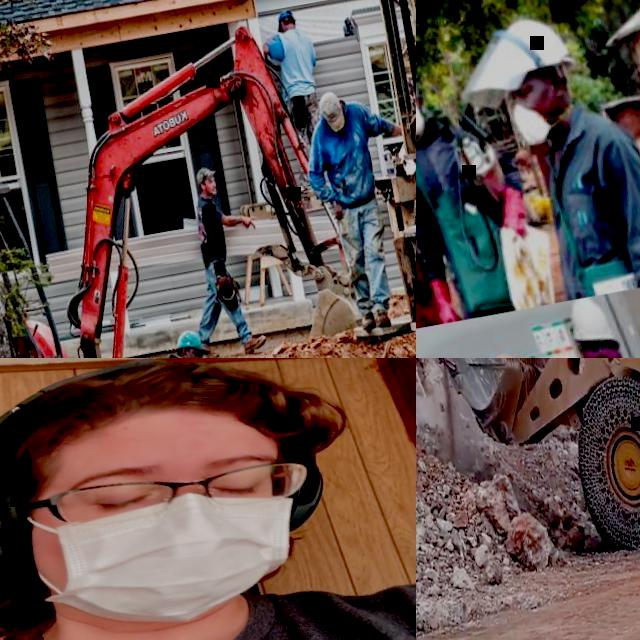helmet: (0, 358, 304, 475), (566, 288, 621, 352)
machinery: (0, 10, 379, 358), (417, 358, 640, 589)
mask: (24, 470, 317, 640), (509, 97, 556, 149), (416, 101, 428, 137)
no_helmet: (317, 90, 346, 131), (173, 324, 209, 350), (194, 165, 218, 182), (276, 6, 294, 22)
no_mask: (205, 183, 218, 194)
no_vest: (0, 555, 416, 640), (534, 92, 640, 296), (416, 117, 515, 326), (320, 100, 378, 204), (278, 24, 316, 96), (193, 198, 227, 258)
person: (0, 358, 416, 640), (495, 0, 640, 301), (416, 34, 550, 327), (295, 78, 416, 332), (169, 156, 280, 358), (258, 3, 339, 191), (141, 317, 268, 358)
